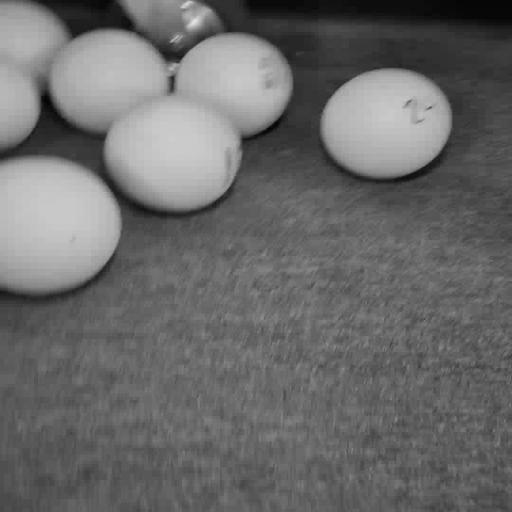fuel: (0, 156, 121, 295), (104, 93, 242, 213), (320, 68, 452, 179), (48, 29, 169, 135), (174, 33, 293, 138), (0, 61, 41, 152)
